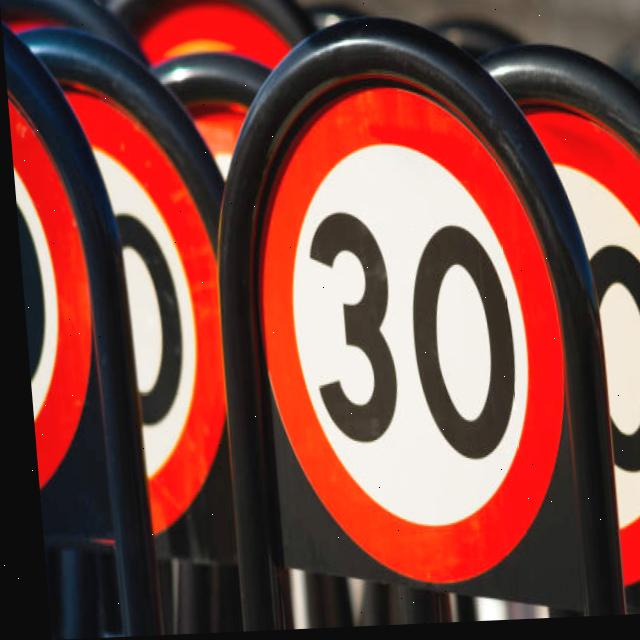Speed limit 30: (231, 43, 590, 605)
